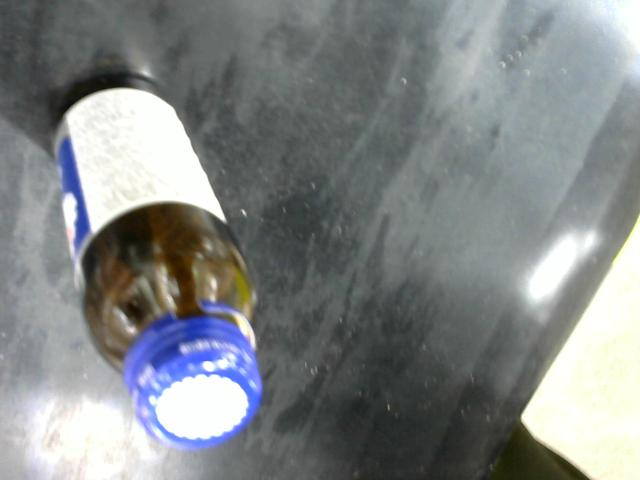glass: (36, 55, 277, 455)
